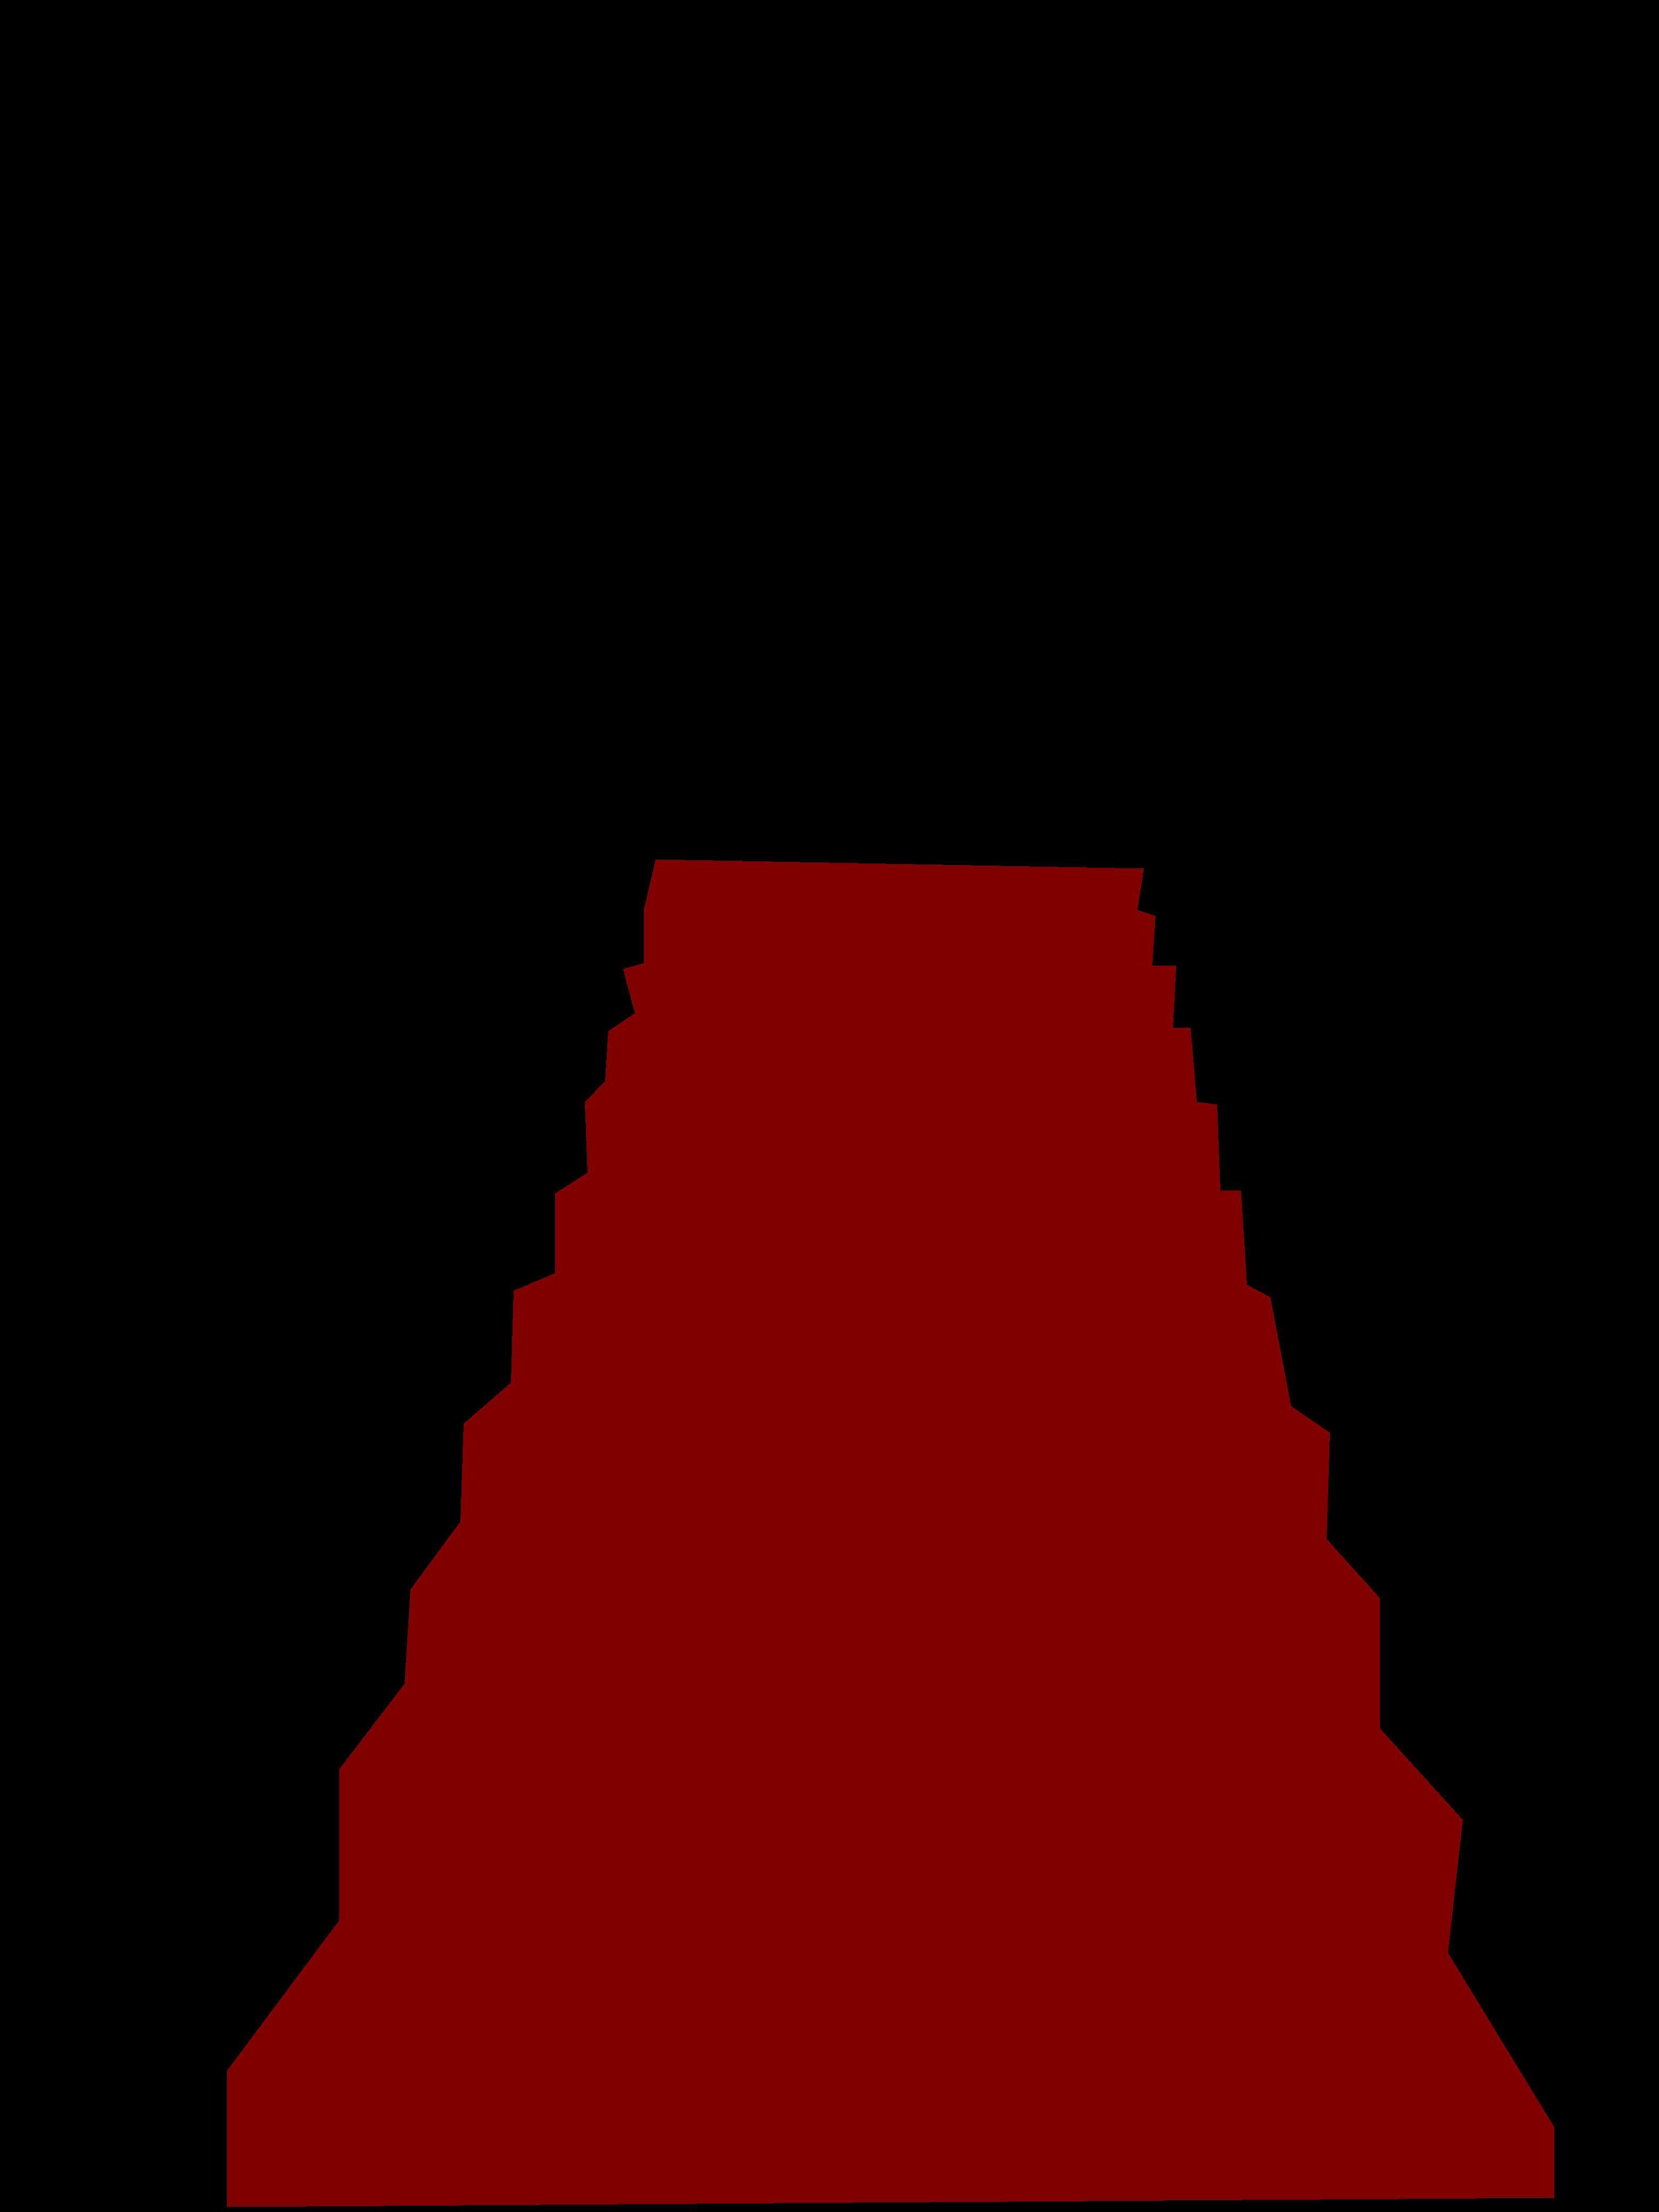stair: (227, 859, 1554, 2207)
